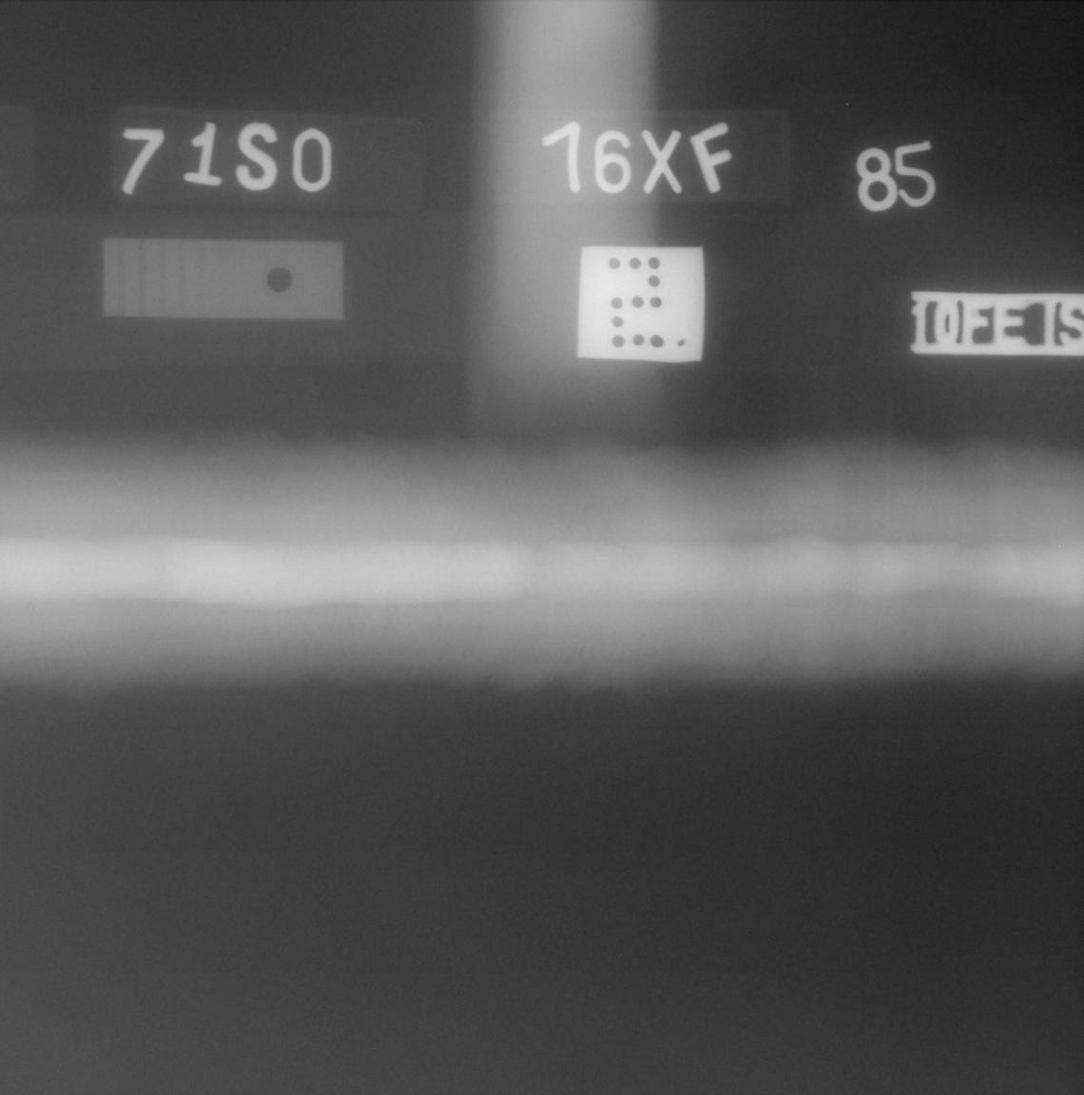Reference Standard 1: (103, 238, 343, 320)
